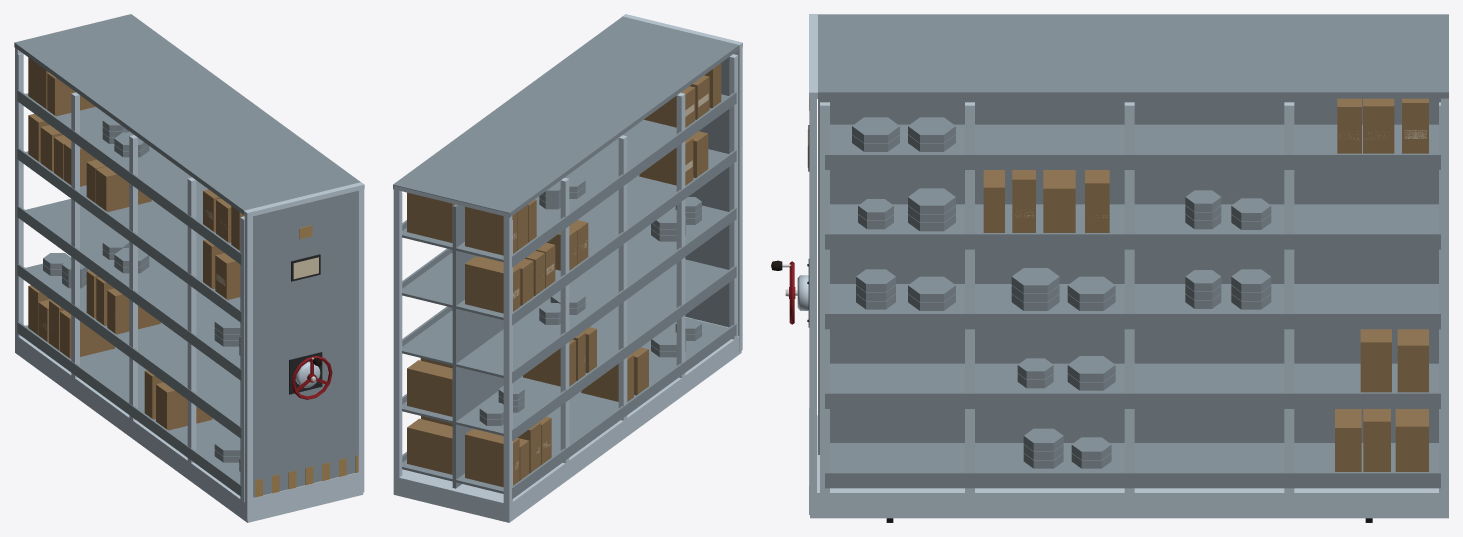
The model's file is carriage_4.glb.
The picture shows the model from 3 angles, left to right: view 1: azimuth 30°, elevation 25°; view 2: azimuth 150°, elevation 25°; view 3: azimuth 270°, elevation 25°; orthographic projection. The views are drawn at different scales.
Visible parts, largest first — view 1: carriage_body, IA_crank, end_tag; view 2: carriage_body; view 3: carriage_body.
Part boxes in pixels (box(x1,y1,x2,y2)): carriage_body: box(14, 14, 364, 522); IA_crank: box(291, 356, 332, 399); end_tag: box(293, 257, 318, 279); carriage_body: box(393, 14, 742, 522); carriage_body: box(795, 14, 1448, 522).
Size of the model in its own units: 0.932 by 2.45 by 3.4.
